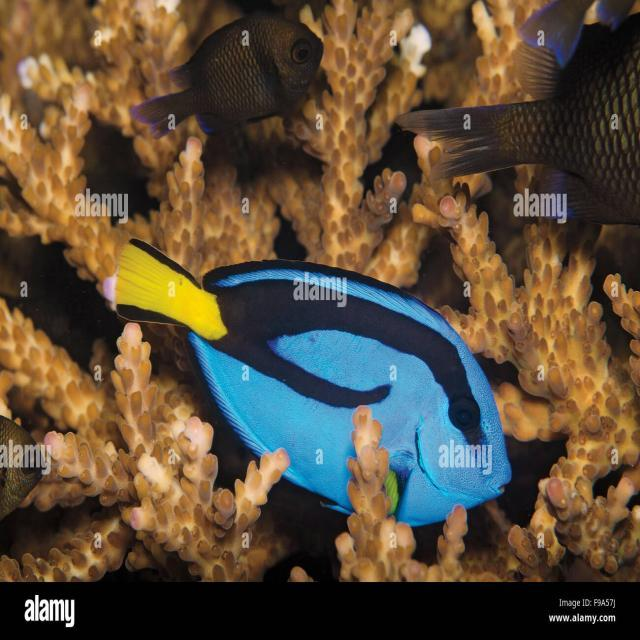BlueTang: (110, 244, 513, 522)
